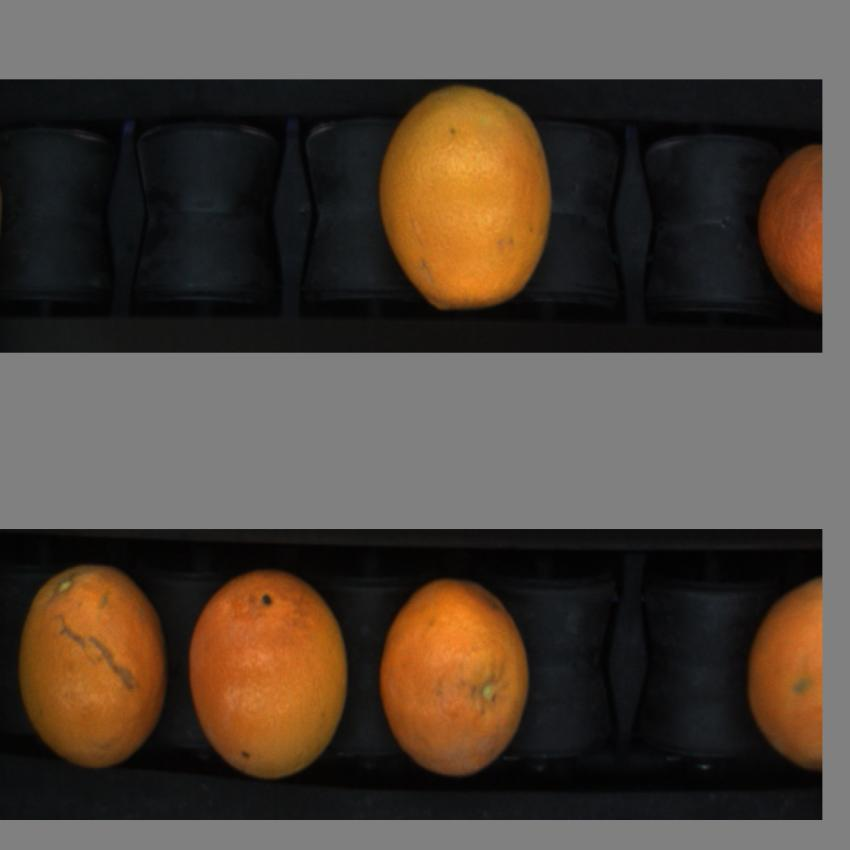Buen estado: (378, 80, 555, 324), (182, 570, 354, 778), (744, 577, 824, 780)
Mal estado: (13, 556, 175, 782), (376, 578, 532, 777), (747, 131, 824, 316)
